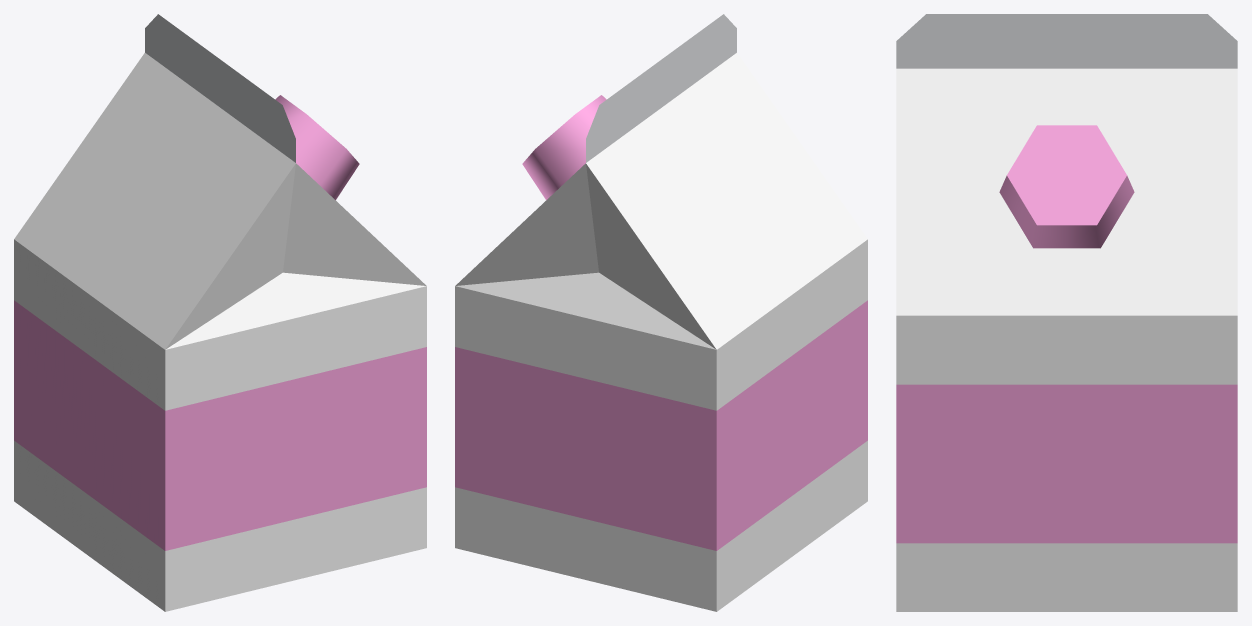
Rendered from cartonSmall.obj.
3 renders of one model, left to right at view 1: azimuth 30°, elevation 25°; view 2: azimuth 150°, elevation 25°; view 3: azimuth 270°, elevation 25°, orthographic. The views are drawn at different scales.
Parts seen in each view (by area): view 1: cartonSmall; view 2: cartonSmall; view 3: cartonSmall.
Boxes of the visible parts, box(x1,y1,x2,y2) form: cartonSmall: box(14, 14, 426, 611); cartonSmall: box(455, 14, 867, 611); cartonSmall: box(896, 14, 1237, 611).
Size of the model in its own units: 0.23 by 0.3905 by 0.23.
